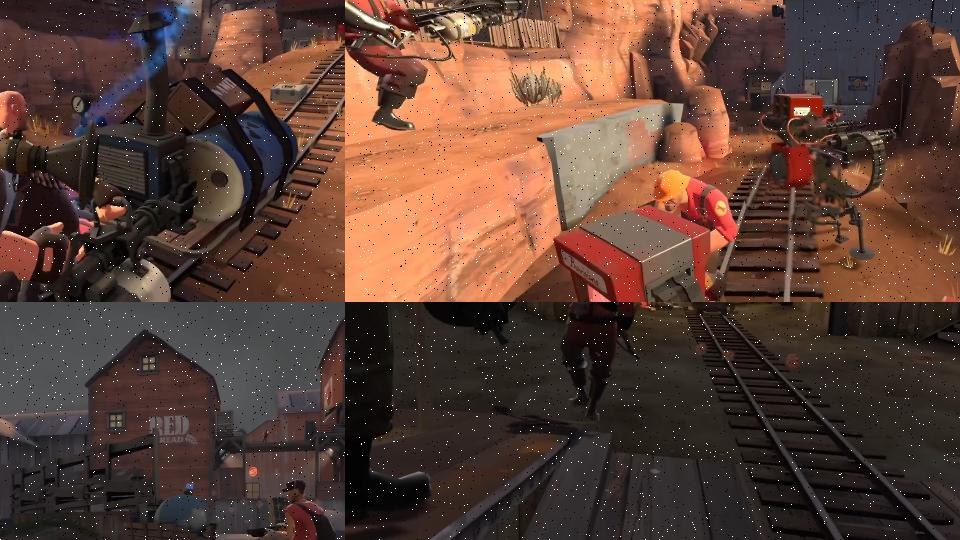Enemy: (345, 302, 535, 531), (0, 88, 177, 302), (345, 0, 529, 138), (0, 97, 101, 302), (637, 166, 736, 284), (558, 302, 641, 422), (233, 478, 342, 540), (635, 302, 683, 311), (262, 429, 271, 443)
